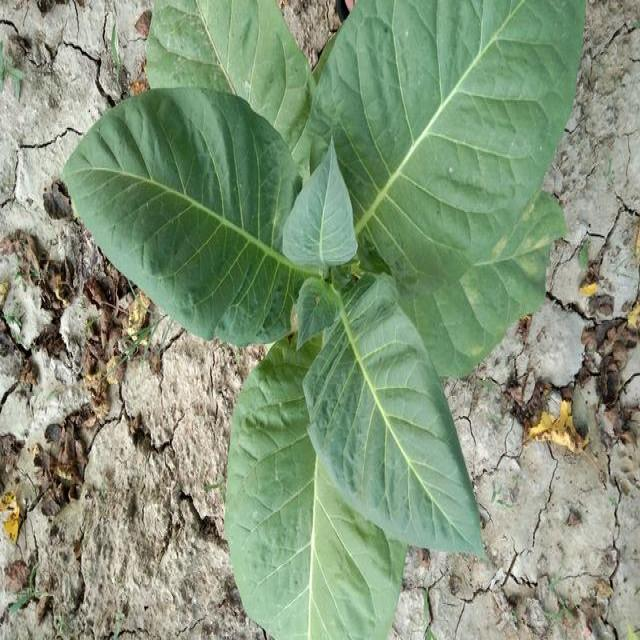crop: (66, 0, 582, 632)
